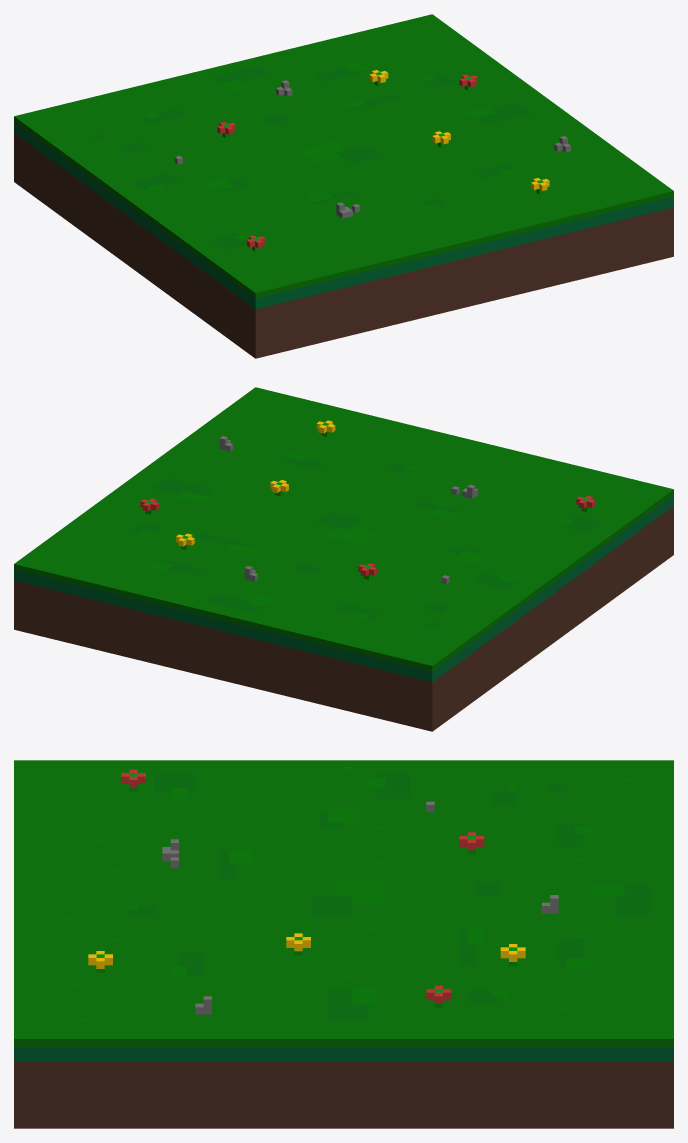
File: Tile_Forest_02.obj
3 views of the same model, one above another, from view 1: azimuth 30°, elevation 25°; view 2: azimuth 150°, elevation 25°; view 3: azimuth 270°, elevation 25° (orthographic). The views are drawn at different scales.
Size of the model in its own units: 80 by 14 by 80.
Materials: 1 (1 with a texture image).
